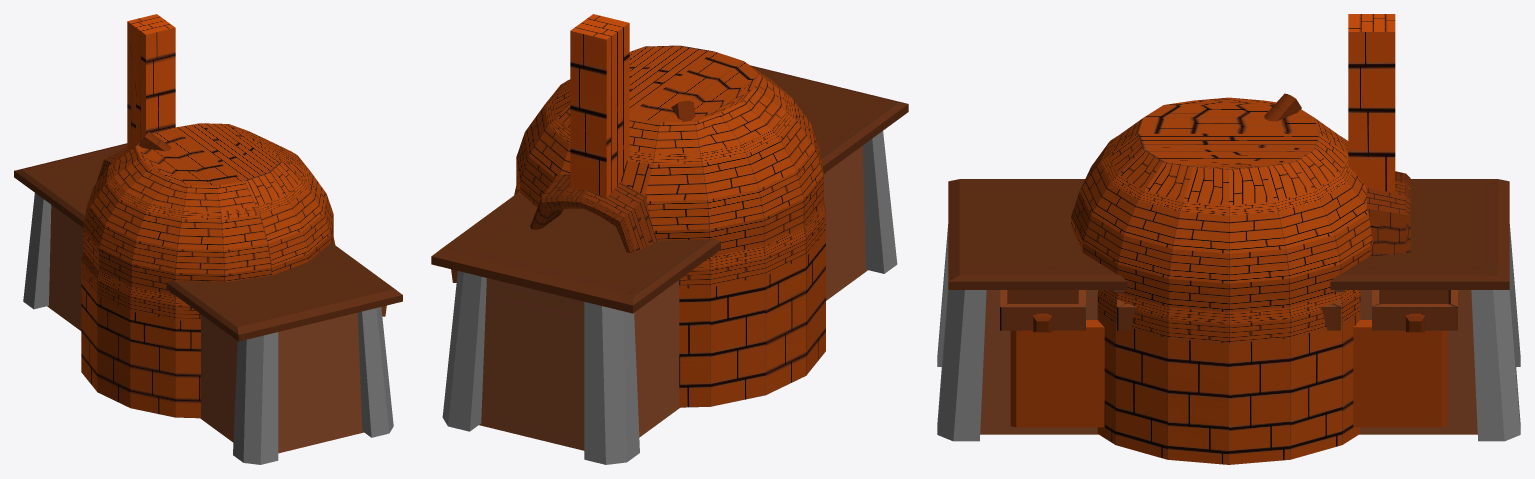
The model's file is MoveisCozinha.fbx.
3 renders of one model, left to right at view 1: azimuth 30°, elevation 25°; view 2: azimuth 150°, elevation 25°; view 3: azimuth 270°, elevation 25°, orthographic. The views are drawn at different scales.
Visible parts, largest first — view 1: fornanha, mesa; view 2: fornanha, mesa; view 3: fornanha, mesa, tremDeCortar.
Part boxes in pixels (bbox=[...]): fornanha: bbox=[81, 14, 335, 418]; mesa: bbox=[14, 143, 402, 464]; fornanha: bbox=[514, 14, 825, 407]; mesa: bbox=[431, 65, 908, 464]; fornanha: bbox=[1071, 14, 1410, 464]; mesa: bbox=[937, 179, 1520, 441]; tremDeCortar: bbox=[1264, 93, 1301, 121].
Bounding box in the file's own units: 192 × 248 × 349.
